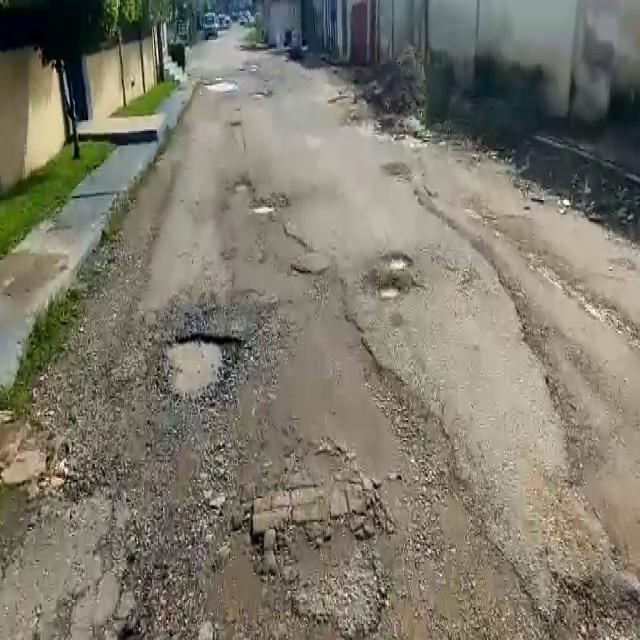Pothole: (158, 334, 245, 404), (382, 250, 413, 271), (251, 200, 276, 216), (377, 283, 400, 300), (232, 180, 252, 194)
